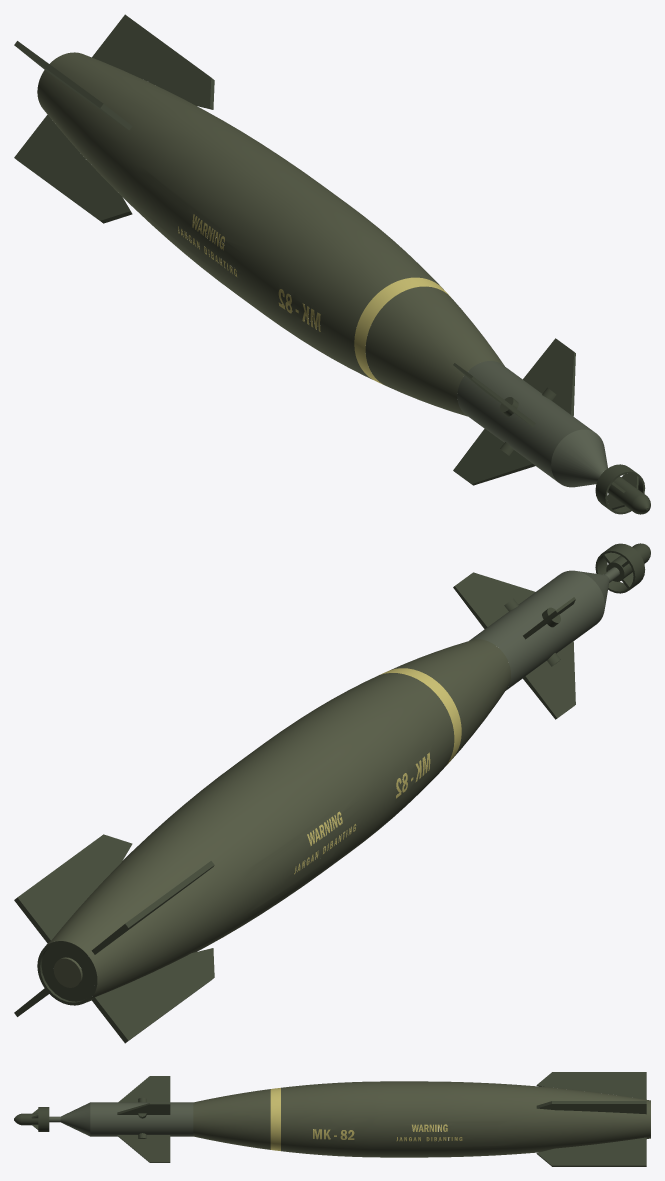
File: gbu12.glb
3 views of the same model, one above another, from view 1: azimuth 30°, elevation 25°; view 2: azimuth 150°, elevation 25°; view 3: azimuth 270°, elevation 25° (orthographic). The views are drawn at different scales.
Parts seen in each view (by area): view 1: Material3 (×3), Material2; view 2: Material3 (×3), Material2; view 3: Material3 (×3), Material2.
Part boxes in pixels (left/top/right/bottom): Material3 (×3): left=37, top=52, right=607, bottom=487; Material2: left=14, top=14, right=650, bottom=514; Material3 (×3): left=45, top=567, right=619, bottom=1002; Material2: left=14, top=543, right=650, bottom=1043; Material3 (×3): left=49, top=1081, right=650, bottom=1157; Material2: left=14, top=1072, right=646, bottom=1166.
Bounding box in the file's own units: 3.44 × 3.44 × 28.78.
